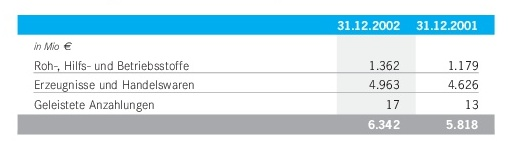table: (0, 0, 508, 154)
